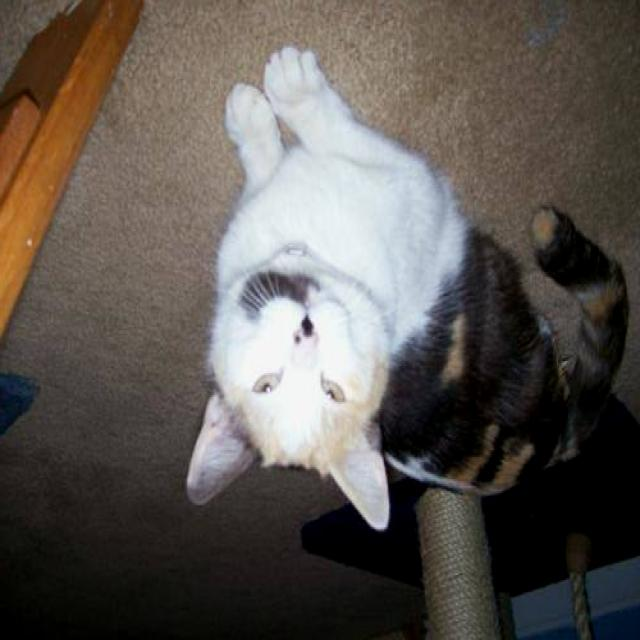Kucing: (147, 42, 636, 591)
